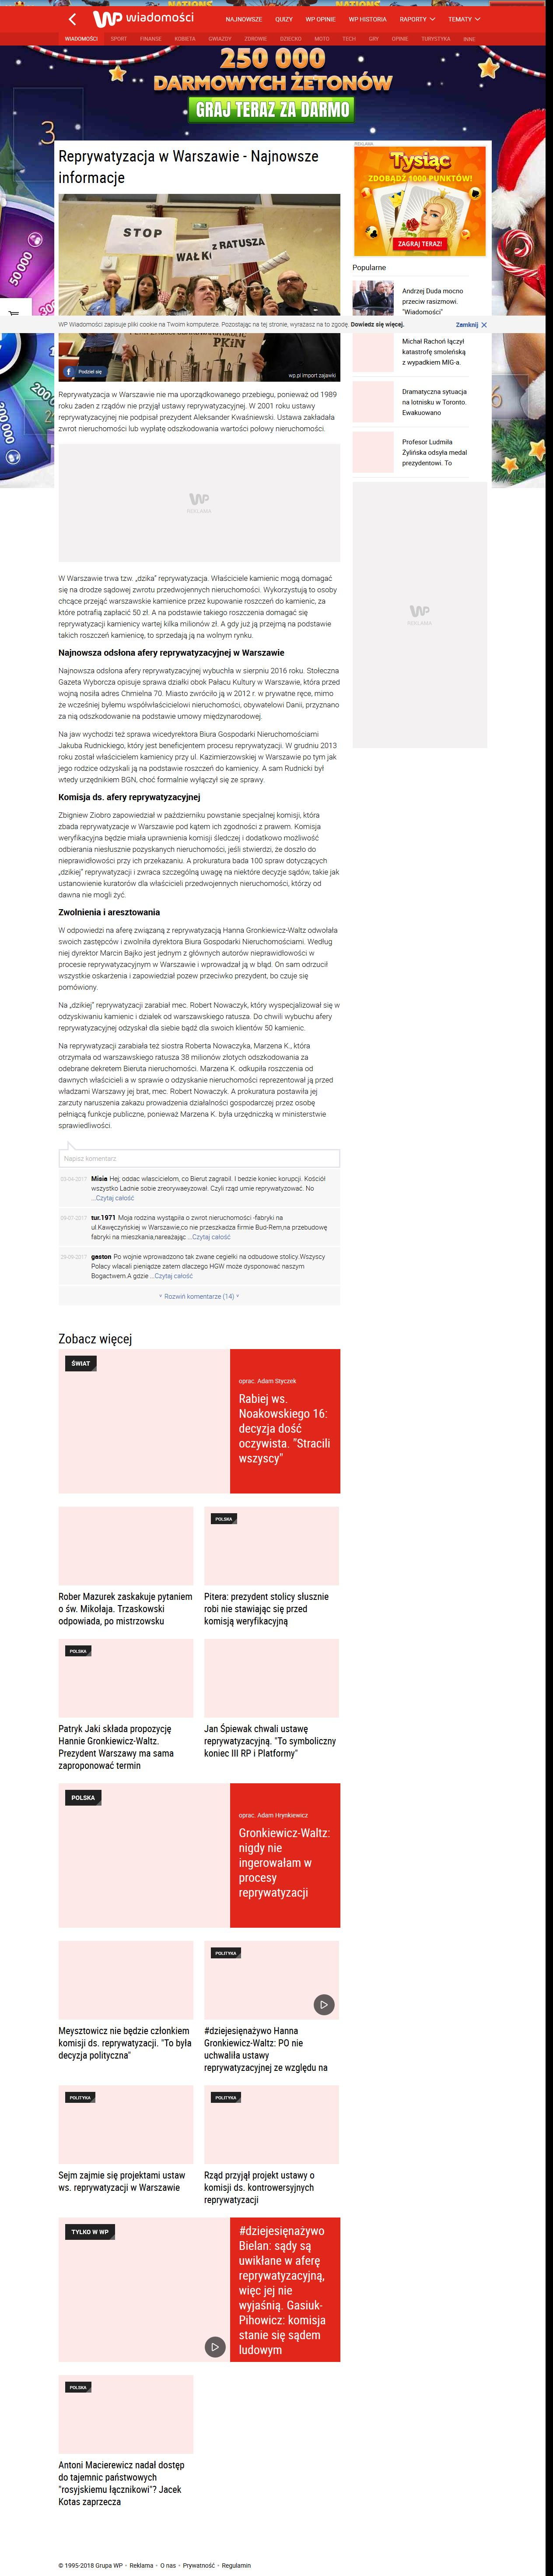title: (57, 150, 320, 187)
